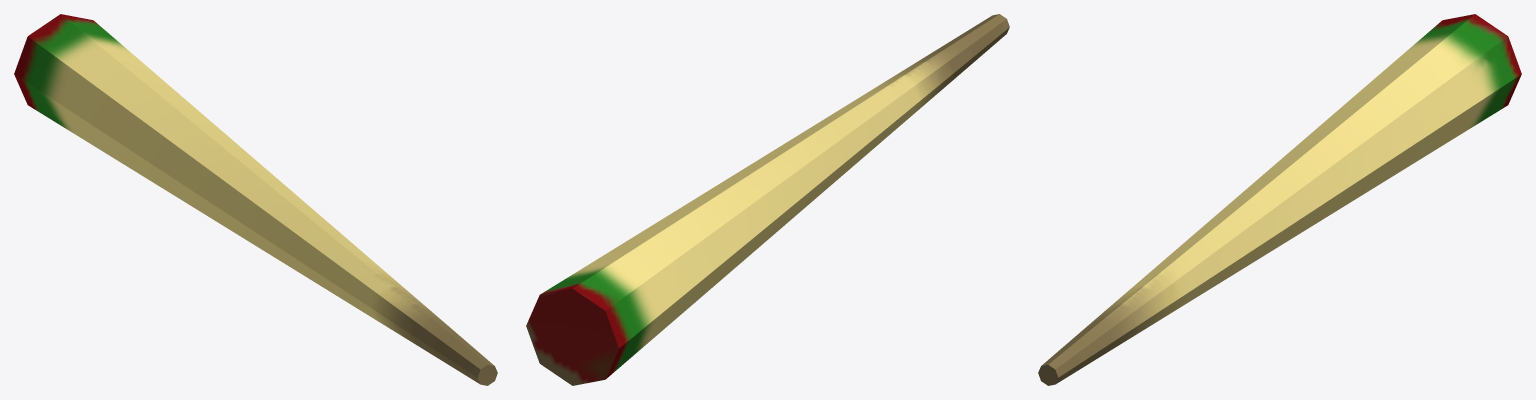
The model's file is boof.fbx.
3 views of the same model, side by side, from view 1: azimuth 30°, elevation 25°; view 2: azimuth 150°, elevation 25°; view 3: azimuth 330°, elevation 25° (orthographic).
Visible parts, largest first — view 1: Cylinder; view 2: Cylinder; view 3: Cylinder.
Part boxes in pixels (bbox=[...]): Cylinder: bbox=[14, 14, 497, 385]; Cylinder: bbox=[526, 14, 1009, 385]; Cylinder: bbox=[1038, 14, 1521, 385].
Size of the model in its own units: 200 by 200 by 1590.
1 material, 1 textured.
